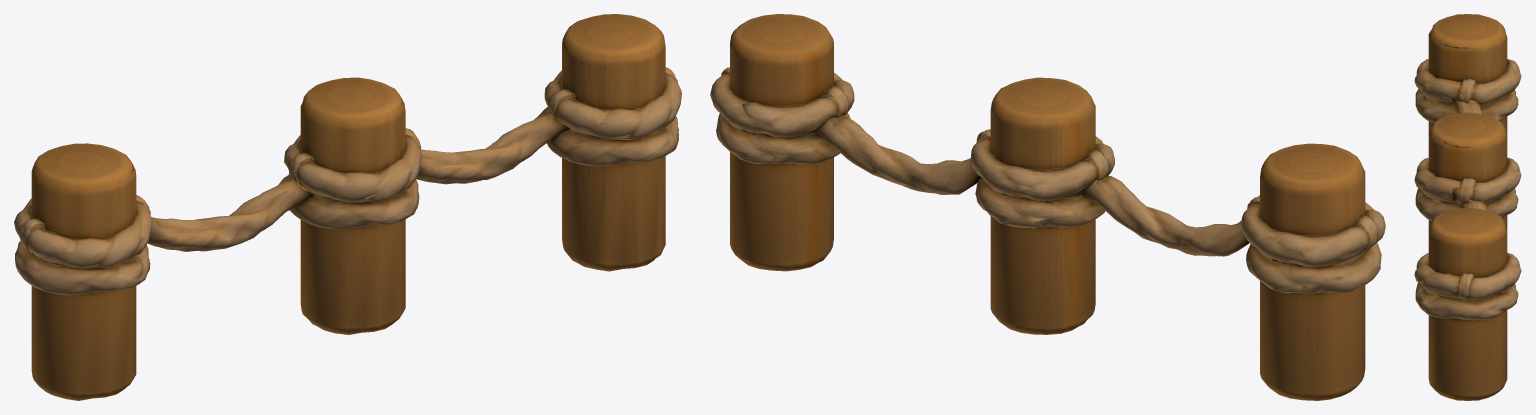
File: tripo_convert_71f872f6-2c39-4cf0-bc97-e515929be3ed.fbx
3 renders of one model, left to right at view 1: azimuth 30°, elevation 25°; view 2: azimuth 150°, elevation 25°; view 3: azimuth 270°, elevation 25°, orthographic. The views are drawn at different scales.
Visible parts, largest first — view 1: tripo_node_71f872f6; view 2: tripo_node_71f872f6; view 3: tripo_node_71f872f6.
Part boxes in pixels (x1,y1,x2,y2): tripo_node_71f872f6: (14, 14, 681, 400); tripo_node_71f872f6: (710, 14, 1385, 400); tripo_node_71f872f6: (1414, 14, 1521, 400).
Size of the model in its own units: 0.998 by 0.3223 by 0.1895.
1 material, 1 textured.
